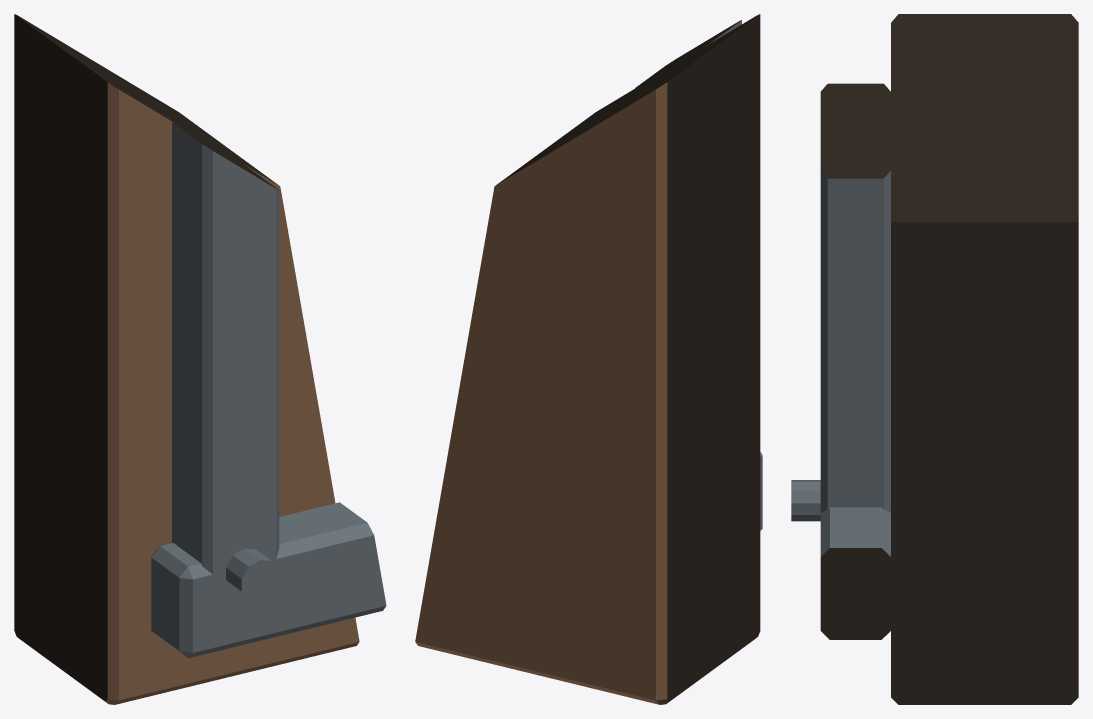
The model's file is SM_DoorShard_01_29.fbx.
The picture shows the model from 3 angles, left to right: view 1: azimuth 30°, elevation 25°; view 2: azimuth 150°, elevation 25°; view 3: azimuth 270°, elevation 25°; orthographic projection. The views are drawn at different scales.
Visible parts, largest first — view 1: SM_DoorShard_01_29; view 2: SM_DoorShard_01_29; view 3: SM_DoorShard_01_29.
Part boxes in pixels (box(x1,y1,x2,y2)): SM_DoorShard_01_29: box(14, 14, 386, 704); SM_DoorShard_01_29: box(415, 14, 762, 704); SM_DoorShard_01_29: box(791, 14, 1078, 704).
Size of the model in its own units: 22.7 by 24.5 by 54.37.
